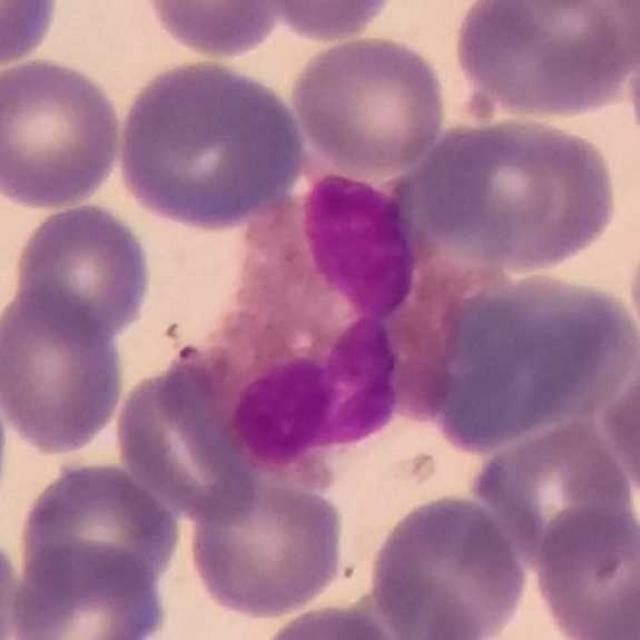Eosinophil: (195, 173, 468, 477)
Platelets: (456, 81, 502, 126)
RBC: (426, 268, 637, 452), (112, 55, 310, 234), (413, 112, 623, 275), (468, 415, 638, 568), (182, 471, 350, 621), (110, 362, 264, 525), (367, 489, 529, 640), (288, 31, 451, 177), (13, 458, 185, 596), (0, 283, 129, 457), (449, 1, 636, 121), (9, 199, 156, 344), (0, 54, 127, 212), (13, 539, 180, 639), (530, 502, 640, 640), (323, 575, 487, 639), (138, 0, 288, 60), (528, 0, 638, 80), (599, 342, 640, 506), (249, 0, 401, 43), (252, 600, 408, 640), (0, 0, 63, 70)
